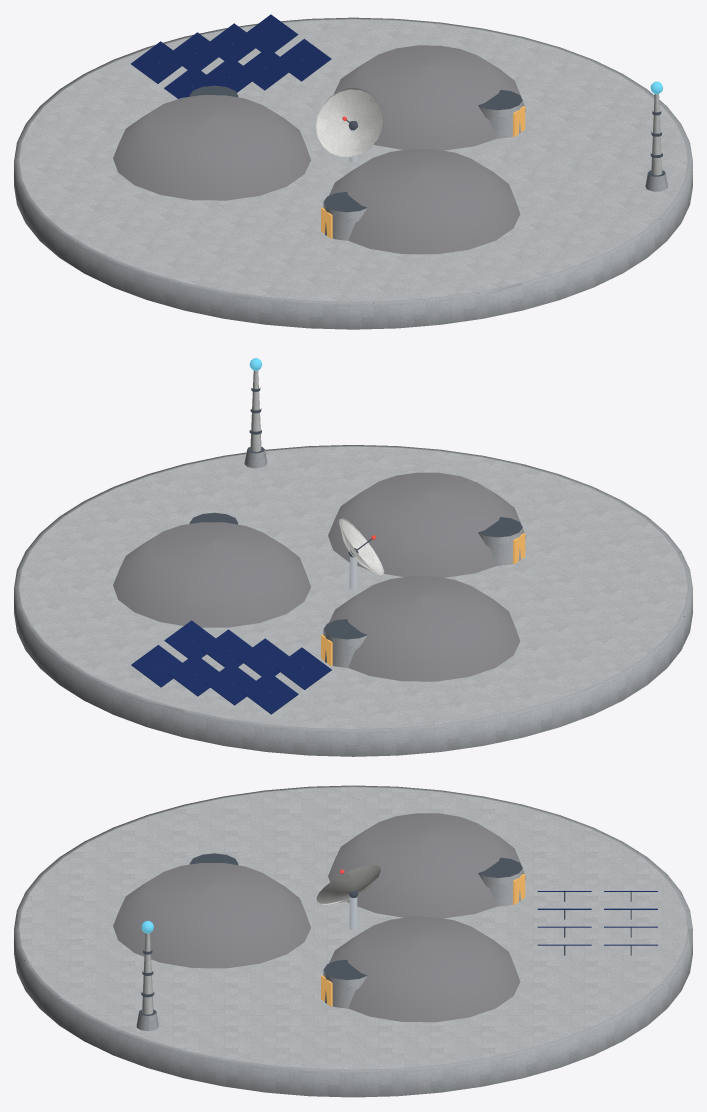
Rendered from moon_burrow_village.glb.
3 views of the same model, one above another, from view 1: azimuth 30°, elevation 25°; view 2: azimuth 150°, elevation 25°; view 3: azimuth 270°, elevation 25° (orthographic).
Parts seen in each view (by area): view 1: moon_burrow_village_LOD0; view 2: moon_burrow_village_LOD0; view 3: moon_burrow_village_LOD0.
Boxes of the visible parts, bbox=[...] form: moon_burrow_village_LOD0: bbox=[14, 14, 692, 329]; moon_burrow_village_LOD0: bbox=[14, 358, 692, 756]; moon_burrow_village_LOD0: bbox=[14, 785, 692, 1097].
Size of what is drawn, in the model's own units: 52.8 by 11.2 by 52.8.
2 materials, 2 textured.
